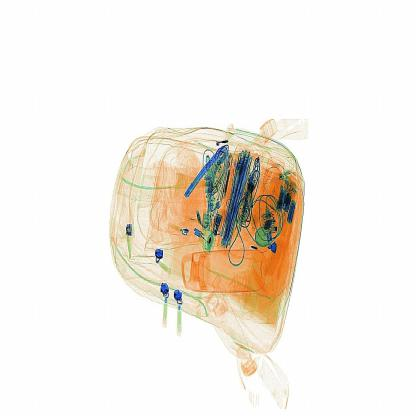pliers: (182, 142, 235, 204)
